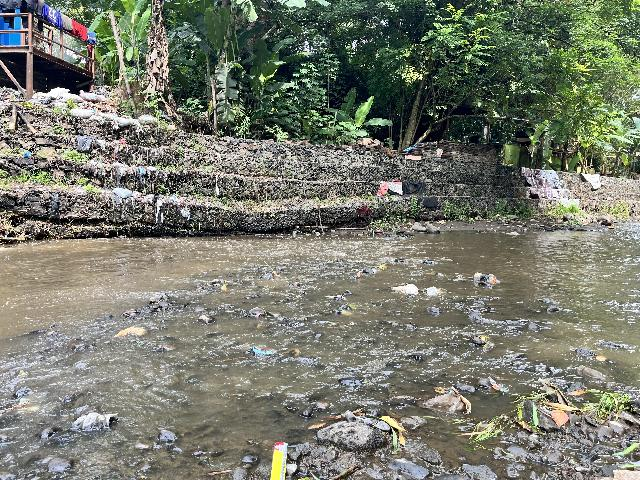Sampah Anorganik: (420, 384, 472, 414), (271, 437, 287, 480), (469, 268, 501, 287), (244, 342, 273, 360), (391, 281, 419, 295), (489, 376, 507, 393), (283, 348, 303, 358), (325, 294, 347, 301), (424, 286, 439, 295), (375, 263, 388, 270), (292, 282, 299, 286)
Sampah Organik: (510, 381, 640, 430), (304, 413, 412, 447), (460, 418, 505, 444), (4, 398, 40, 410), (109, 326, 146, 337), (476, 334, 489, 346), (207, 469, 232, 475), (14, 370, 28, 379), (117, 309, 137, 315), (594, 354, 607, 363), (337, 310, 355, 316), (256, 311, 269, 319), (347, 303, 360, 309), (219, 284, 229, 291), (272, 271, 280, 278), (356, 271, 361, 277)
